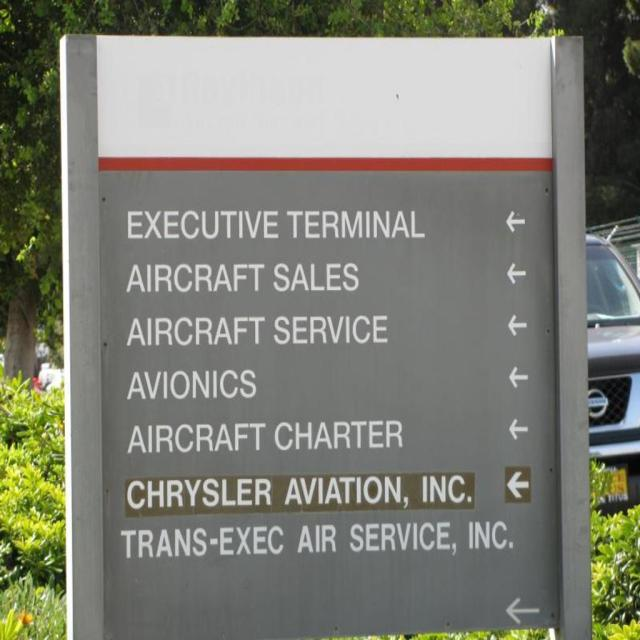car: (567, 213, 638, 499)
